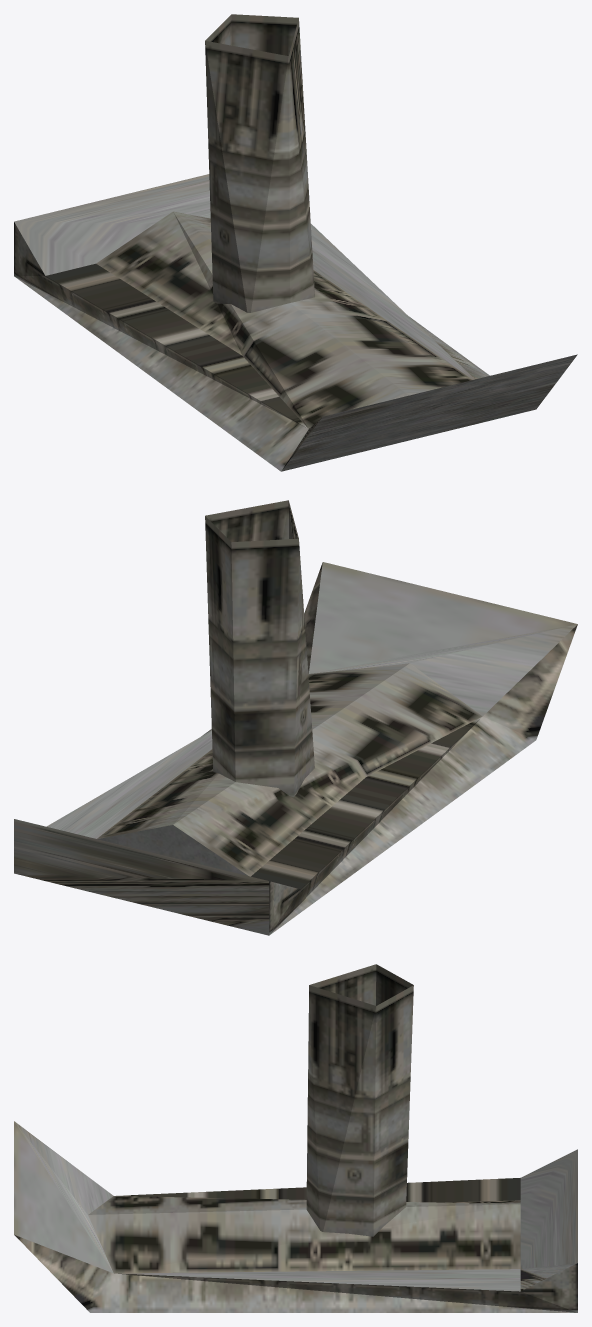
Rendered from transport_strut_a_l3.fbx.
3 views of the same model, one above another, from view 1: azimuth 30°, elevation 25°; view 2: azimuth 150°, elevation 25°; view 3: azimuth 270°, elevation 25° (orthographic). The views are drawn at different scales.
Visible parts, largest first — view 1: mesh_node; view 2: mesh_node; view 3: mesh_node.
Part boxes in pixels (<box>): mesh_node: <box>14,14,577,471</box>; mesh_node: <box>14,500,577,935</box>; mesh_node: <box>14,964,577,1312</box>.
Size of the model in its own units: 1.8 by 2 by 3.77.
1 material, 1 textured.
